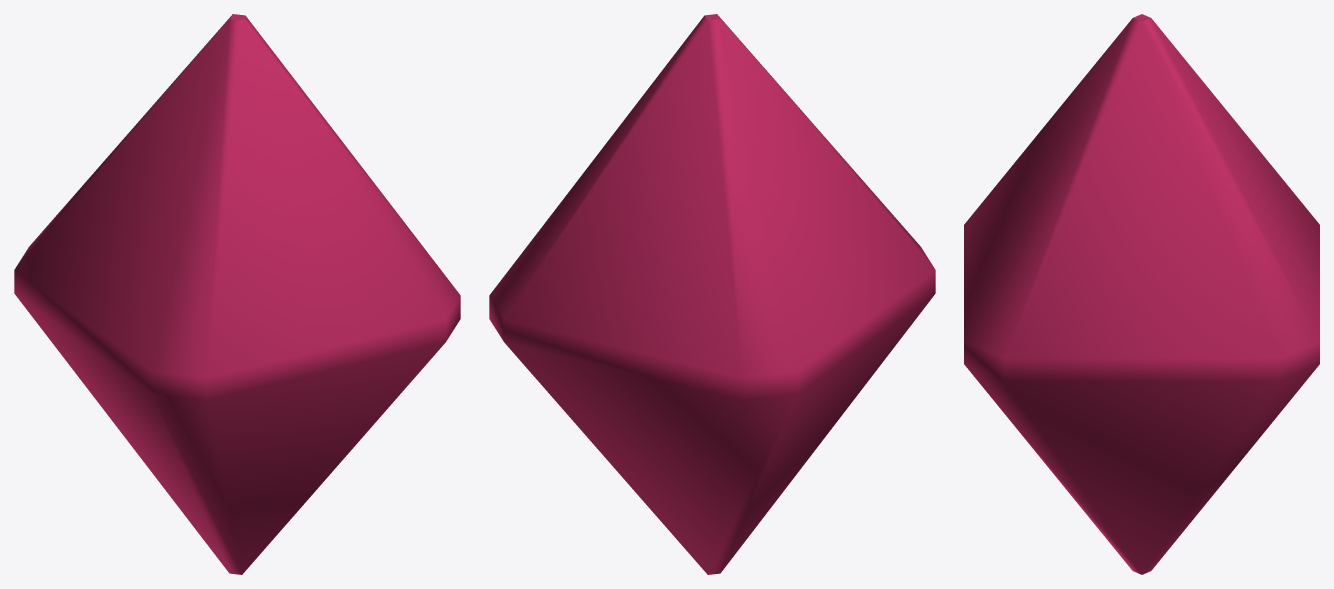
Rendered from gem_pink.glb.
3 renders of one model, left to right at view 1: azimuth 30°, elevation 25°; view 2: azimuth 150°, elevation 25°; view 3: azimuth 270°, elevation 25°, orthographic.
Parts seen in each view (by area): view 1: Gem_Pink; view 2: Gem_Pink; view 3: Gem_Pink.
Boxes of the visible parts, x1,y1,x2,y2 form: Gem_Pink: (14, 14, 460, 574); Gem_Pink: (489, 14, 935, 574); Gem_Pink: (964, 14, 1319, 574).
Bounding box in the file's own units: 1.13 × 1.94 × 1.13.
